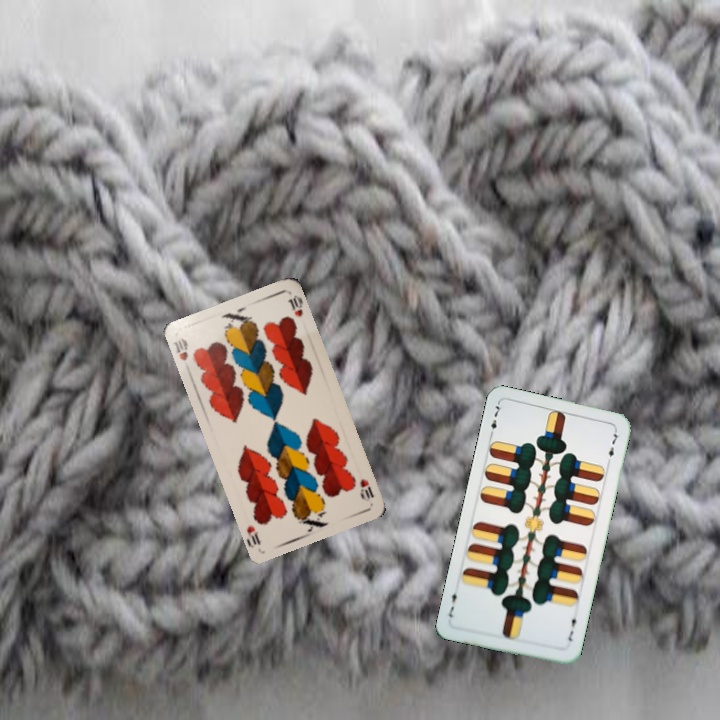E7: (486, 402, 504, 440), (564, 610, 580, 645)
H10: (169, 334, 191, 363), (356, 475, 377, 504)
